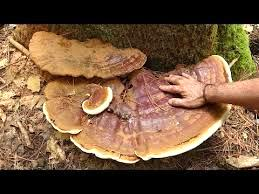Ganoderma - Fruit Body: (114, 77, 237, 161), (30, 31, 147, 77), (40, 83, 82, 135), (84, 85, 113, 119)
